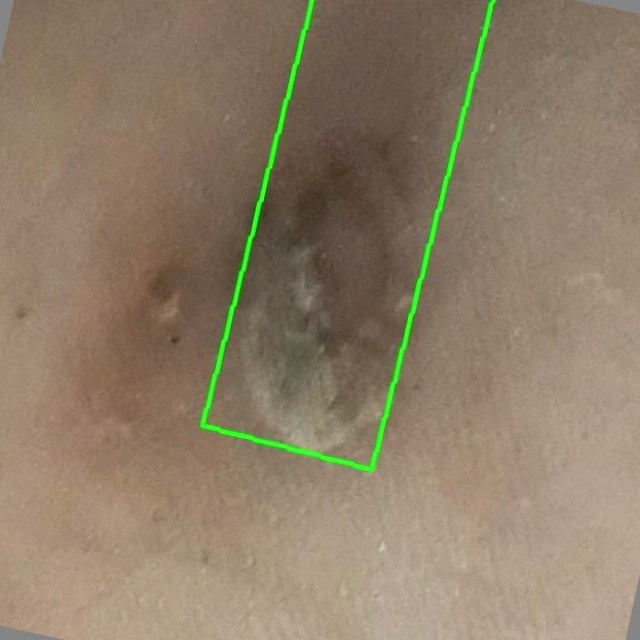Eczema: (202, 0, 493, 468)
